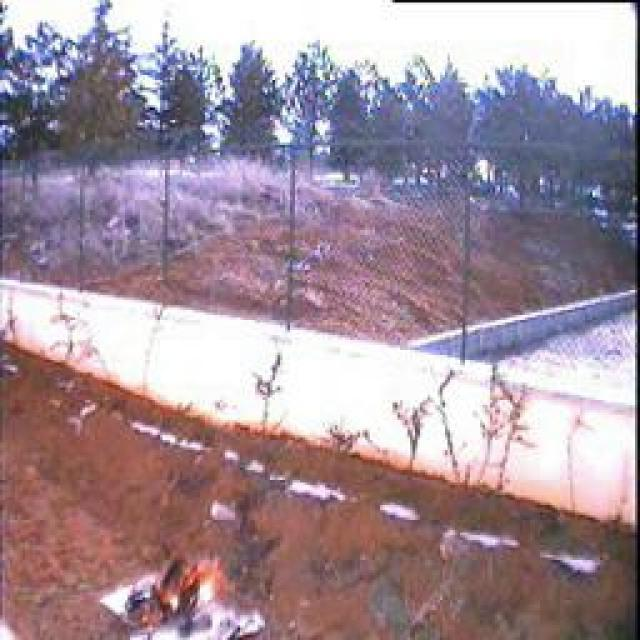Fire: (122, 547, 245, 636)
